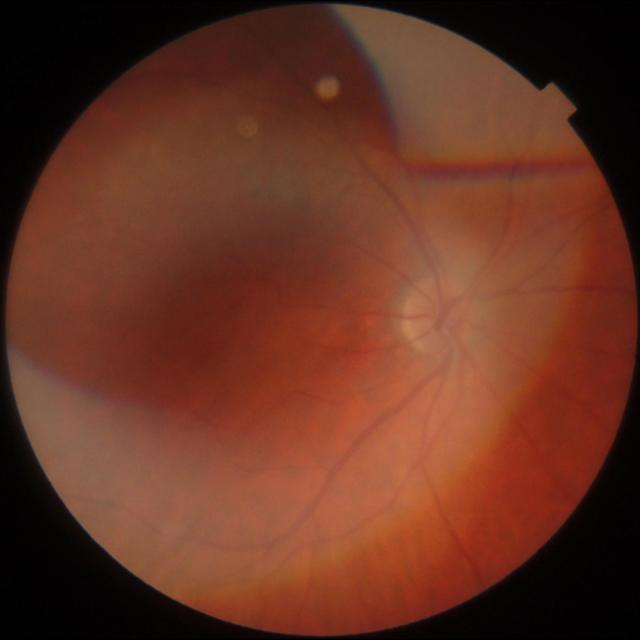OC: (426, 318, 451, 337)
OD: (404, 282, 472, 357)
